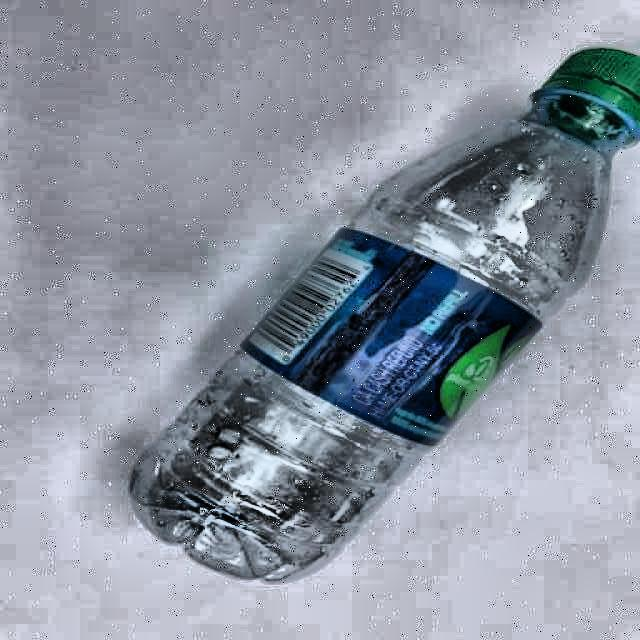plastic: (131, 48, 640, 579)
